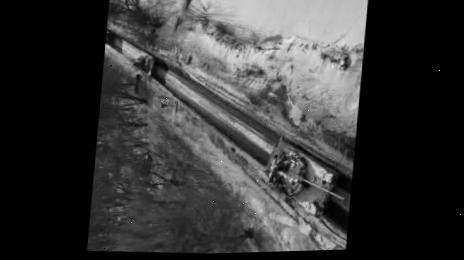tank: (258, 134, 350, 222), (129, 49, 158, 79)
